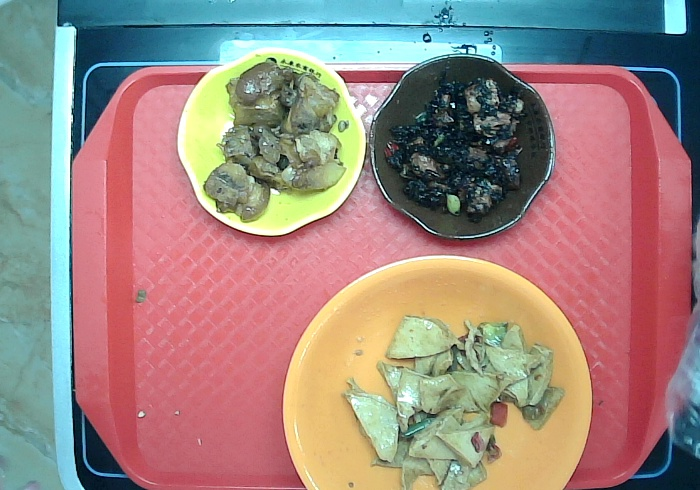YKMZ-Huang_Se_Ao_Bian_Wan: (176, 46, 366, 238)
YKMZ-Ju_Se_Tang_Wan: (281, 255, 592, 490)
YKMZ-Ka_Fei_Ao_Bian_Wan: (369, 52, 558, 239)
